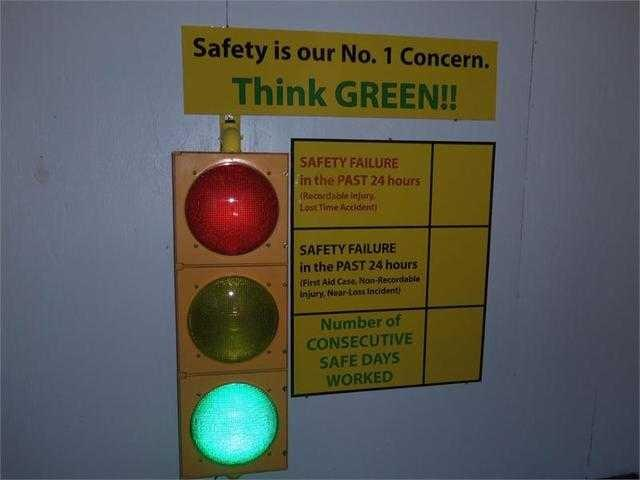green: (168, 151, 291, 476), (178, 375, 288, 476)
